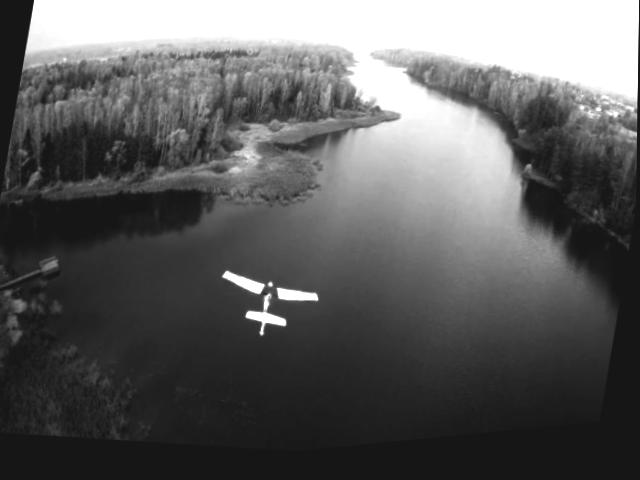hedef: (204, 259, 332, 358)
